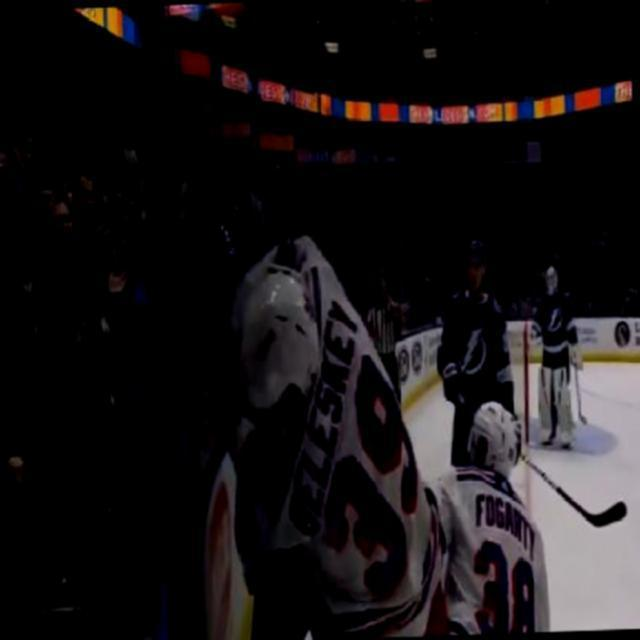fight: (206, 218, 446, 638)
non-fight: (432, 233, 518, 478), (524, 256, 588, 458)
